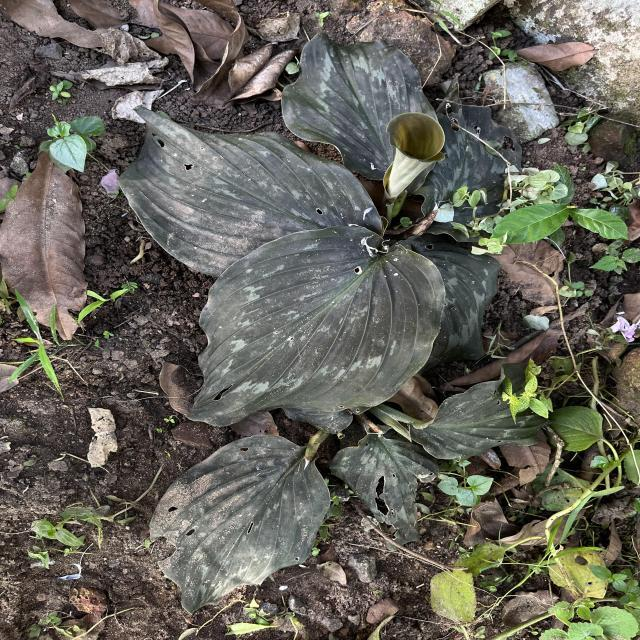Kaempferia galanga linn: (184, 225, 448, 430), (115, 102, 387, 278), (146, 432, 334, 618)
